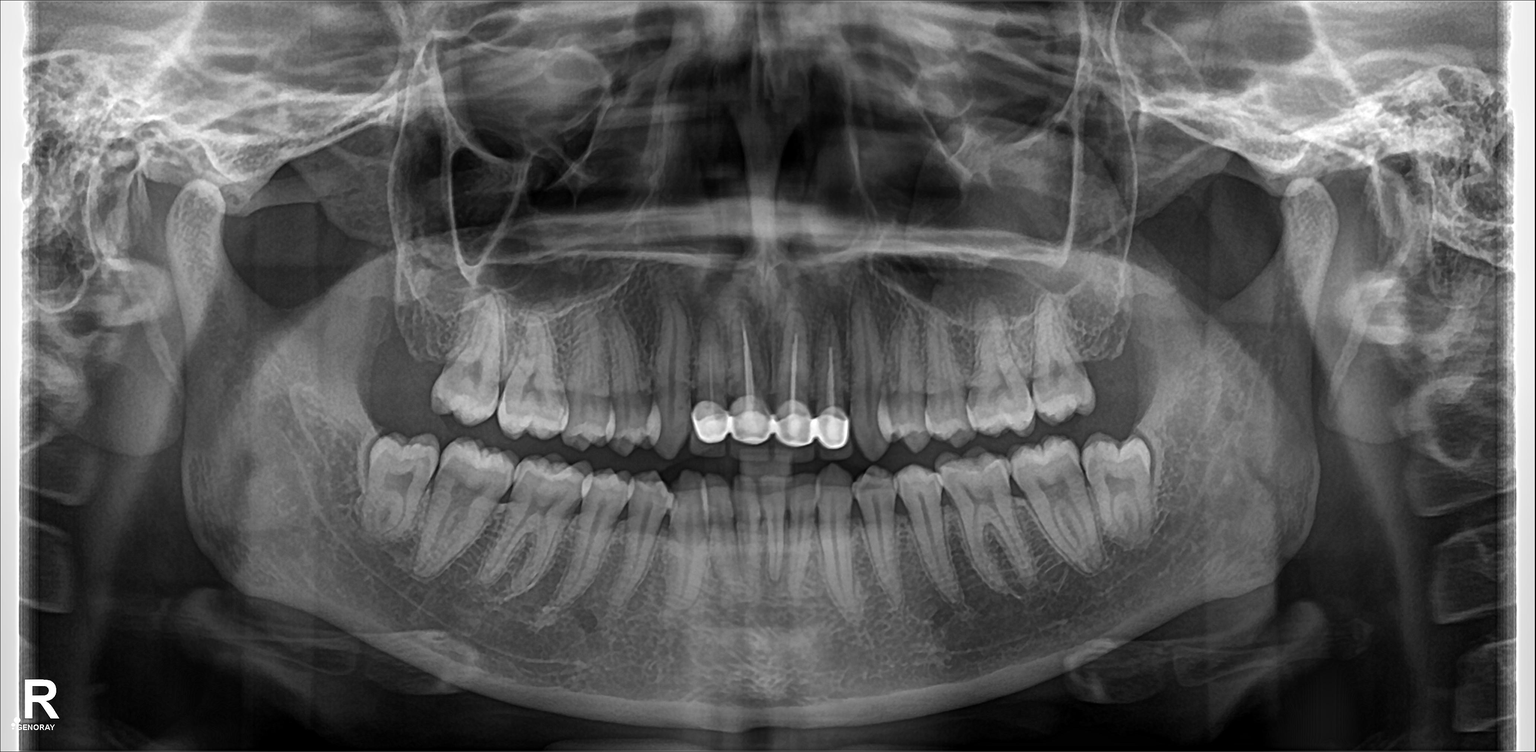Endodontically Treated Tooth: (762, 300, 818, 438), (693, 315, 731, 445), (818, 316, 852, 442), (741, 316, 766, 441)
Missing Tooth: (1076, 294, 1138, 411), (391, 303, 442, 422)
